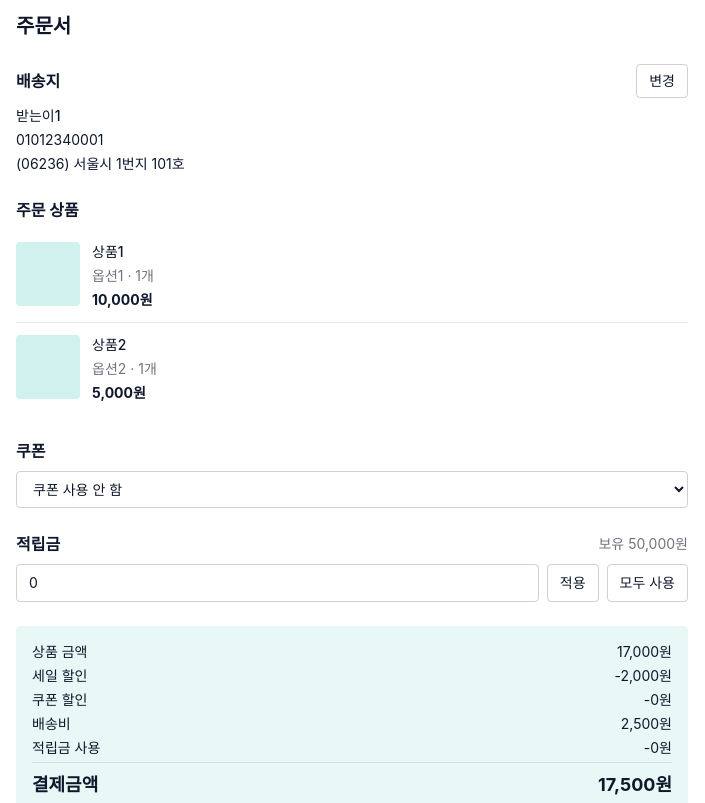
Scenario: 적립금 입력의 음수·소수는 0 이상 정수가 된다
Check: the text "상품1" is shown, box [92,243,124,260]
Replace the text in the number field named "사용할 적립금" with "-500" at (277, 583), box [16,564,539,602]
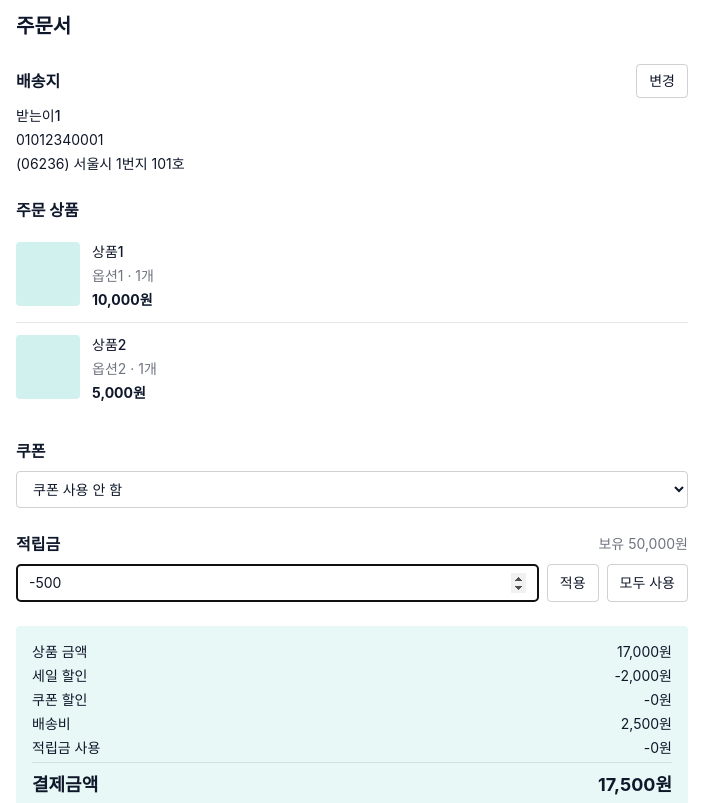
Press Tab
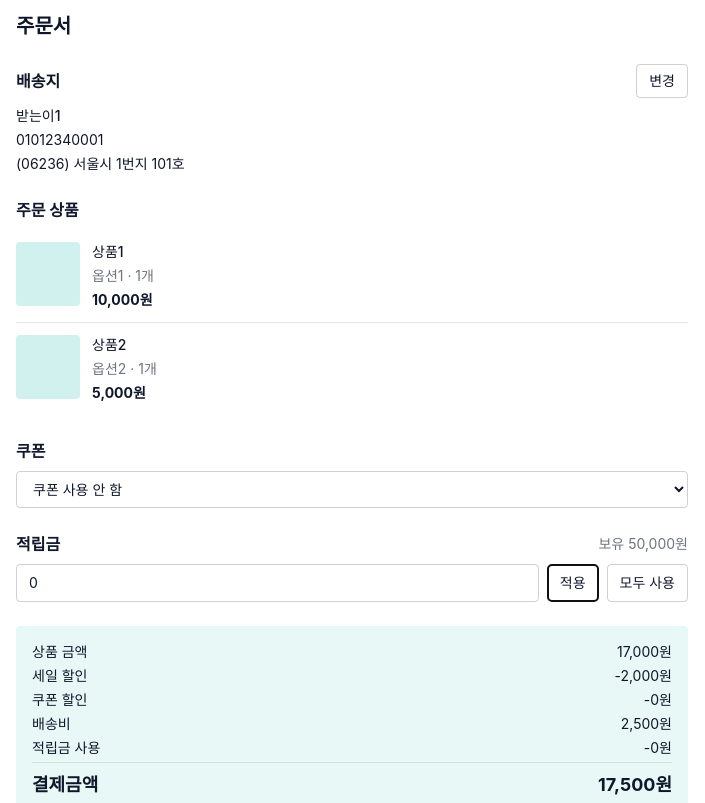
Check: the number field named "사용할 적립금" holds "0"
Replace the text in the number field named "사용할 적립금" with "1.5" at (277, 583), box [16,564,539,602]
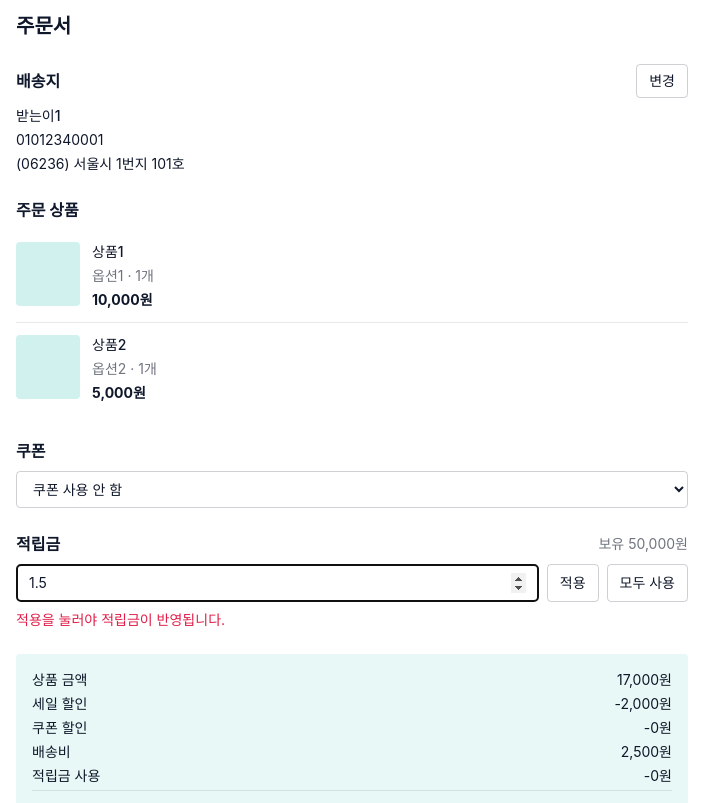
Click the button "적용" at (573, 583), box [547,564,599,602]
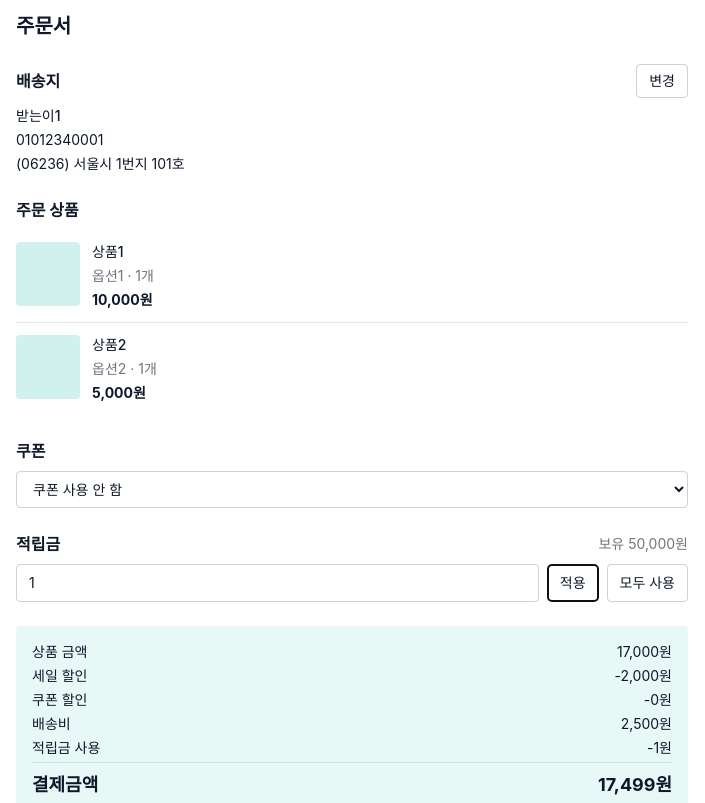
Check: the number field named "사용할 적립금" holds "1", box [16,564,539,602]
Check: the text "적립금 사용" shows "-1원", box [647,739,672,756]
